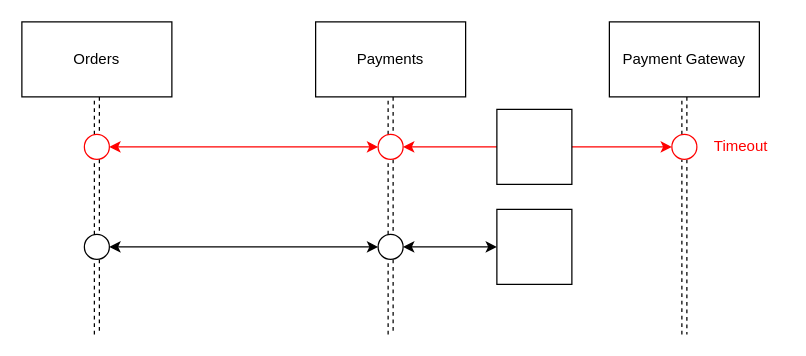
Image size: 806x356. Some labels were removed from this diagram. The centre of each missing label's shape, as x and y in pixels:
Circuit Breaker "Open": [534,246]
Dispara o Circuit Breaker: [534,146]
